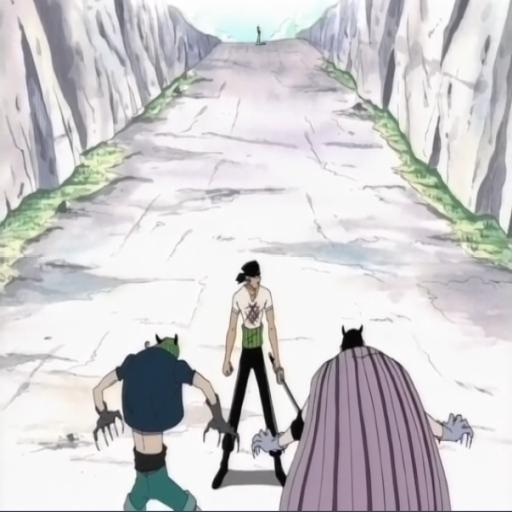Zoro: (197, 232, 294, 503)
